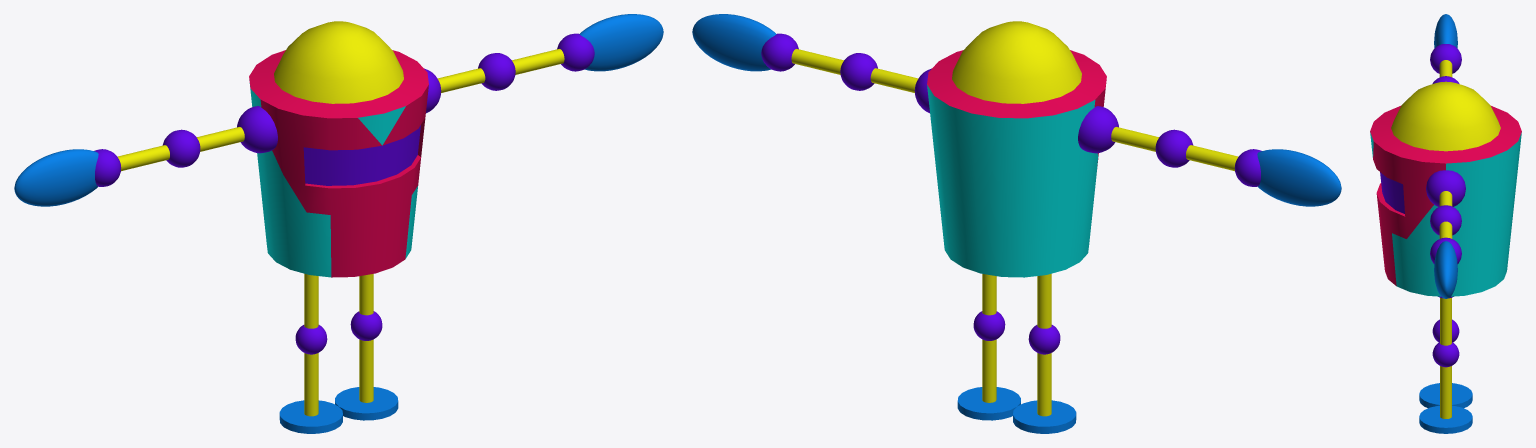
Rendered from RobotRandy.fbx.
3 views of the same model, side by side, from view 1: azimuth 30°, elevation 25°; view 2: azimuth 150°, elevation 25°; view 3: azimuth 270°, elevation 25° (orthographic). The views are drawn at different scales.
Parts seen in each view (by area): view 1: pSphere6, pSphere10 (×2), pSphere8 (×2), pSphere9 (×2), pCylinder9, pCylinder3 (×2), pCylinder8, pCylinder2 (×2), pSphere1, pCylinder6, pCylinder7, pCylinder4 (+2 smaller); view 2: pSphere6, pSphere10 (×2), pSphere8 (×2), pSphere9 (×2), pCylinder9, pCylinder3 (×2), pCylinder8, pCylinder2 (×2), pSphere1, pCylinder6, pCylinder7, pCylinder4 (+2 smaller); view 3: pSphere6, pSphere10 (×2), pCylinder8, pSphere1, pSphere9 (×2), pCylinder9, pSphere8, pCylinder7, pCylinder5, pSphere12, pCylinder3 (×2), pSphere11 (+1 smaller).
Part boxes in pixels (x1,y1,x2,y2): pSphere6: (249,21,428,277); pSphere10 (×2): (14,14,663,206); pSphere8 (×2): (162,53,515,167); pSphere9 (×2): (94,33,594,186); pCylinder9: (279,400,342,433); pCylinder3 (×2): (117,49,564,171); pCylinder8: (335,387,398,420); pCylinder2 (×2): (197,68,485,151); pSphere1: (237,106,277,153); pCylinder6: (304,353,318,416); pCylinder7: (359,339,373,402); pCylinder4: (304,273,318,328); pSphere6: (927,21,1106,277); pSphere10 (×2): (692,14,1341,206); pSphere8 (×2): (840,53,1193,167); pSphere9 (×2): (761,33,1261,186); pCylinder9: (1013,400,1076,433); pCylinder3 (×2): (791,49,1238,171); pCylinder8: (957,387,1020,420); pCylinder2 (×2): (870,68,1158,151); pSphere1: (1078,106,1118,153); pCylinder6: (1037,353,1051,416); pCylinder7: (982,339,996,402); pCylinder4: (1037,273,1051,328); pSphere6: (1370,81,1521,298); pSphere10 (×2): (1434,14,1457,298); pCylinder8: (1419,405,1472,433); pSphere1: (1426,170,1465,206); pSphere9 (×2): (1430,44,1461,263); pCylinder9: (1419,383,1472,408); pSphere8: (1430,205,1461,235); pCylinder7: (1440,366,1451,418); pCylinder5: (1440,298,1451,345); pSphere12: (1432,342,1459,367); pCylinder3 (×2): (1439,60,1452,238); pSphere11: (1432,319,1459,342).
Size of the model in its own units: 9.39 by 5.36 by 2.27.
